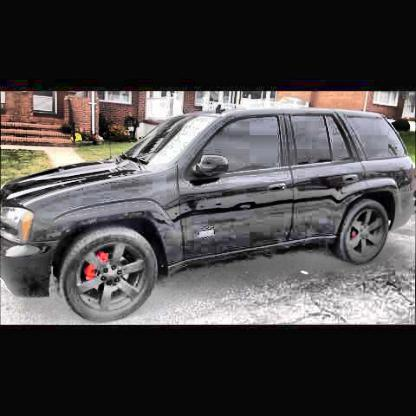Chevrolet TrailBlazer SS 2009: (2, 107, 416, 325)
